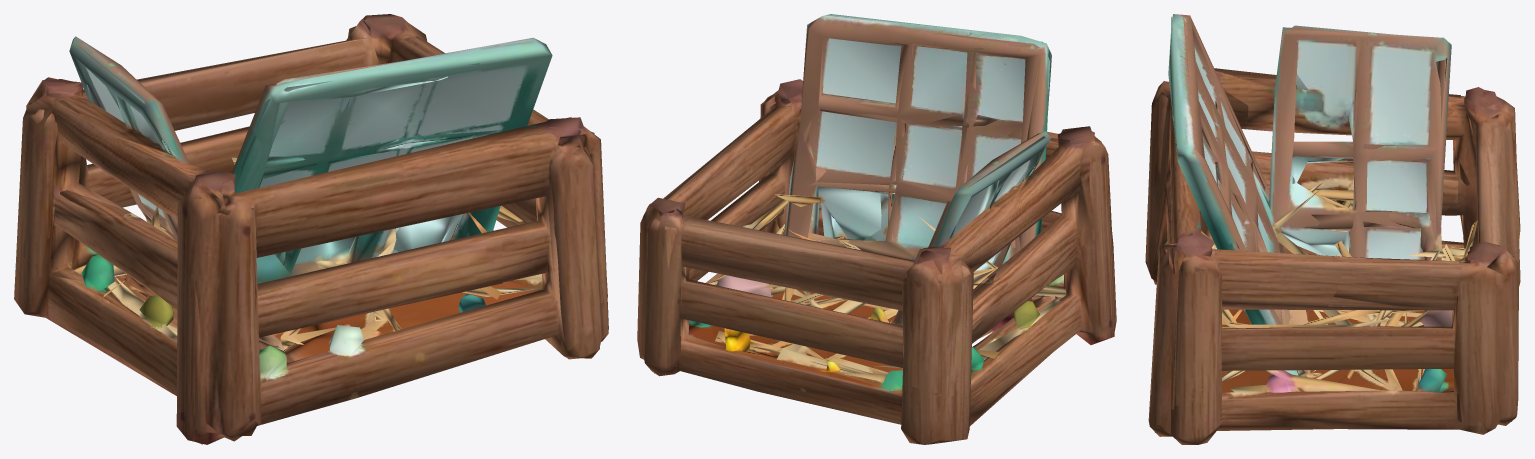
The model's file is pane-crate.glb.
3 renders of one model, left to right at view 1: azimuth 30°, elevation 25°; view 2: azimuth 150°, elevation 25°; view 3: azimuth 270°, elevation 25°, orthographic. The views are drawn at different scales.
Bounding box in the file's own units: 0.9 × 0.6959 × 0.7963.
Materials: 1 (1 with a texture image).
